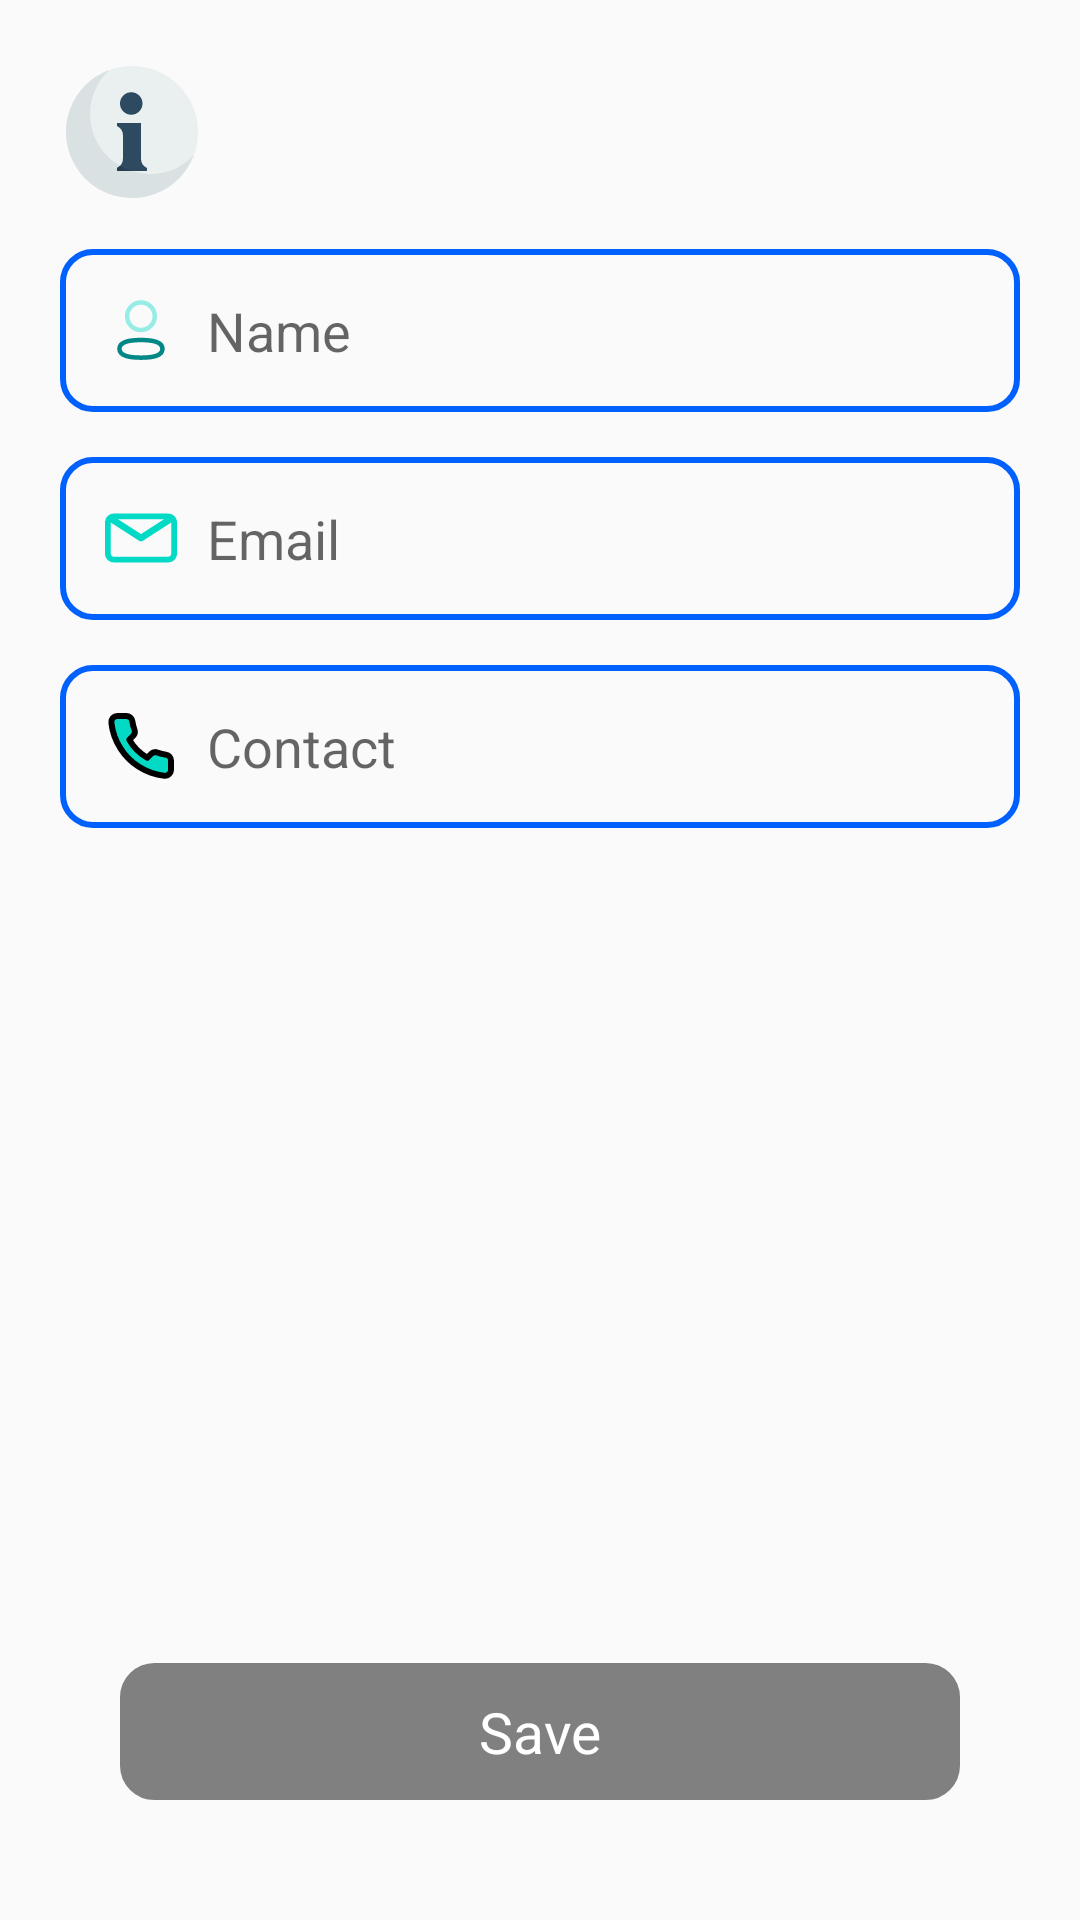

Where icons sit on this 1080px×1920px app screen, as (x1, y1, x2, y2):
info: (66, 66, 198, 198)
